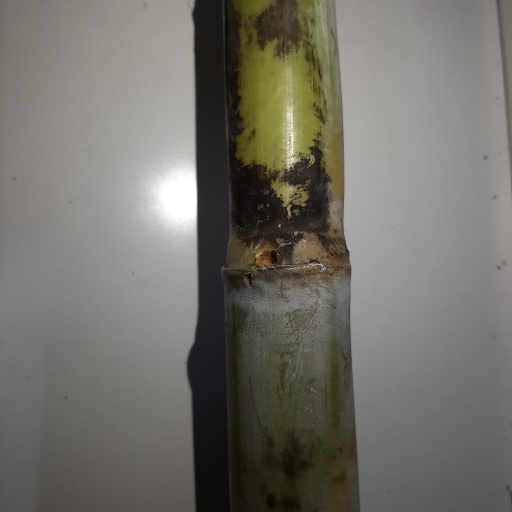Damage_Bud: (252, 244, 279, 270)
